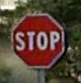stop: (10, 12, 64, 70)
